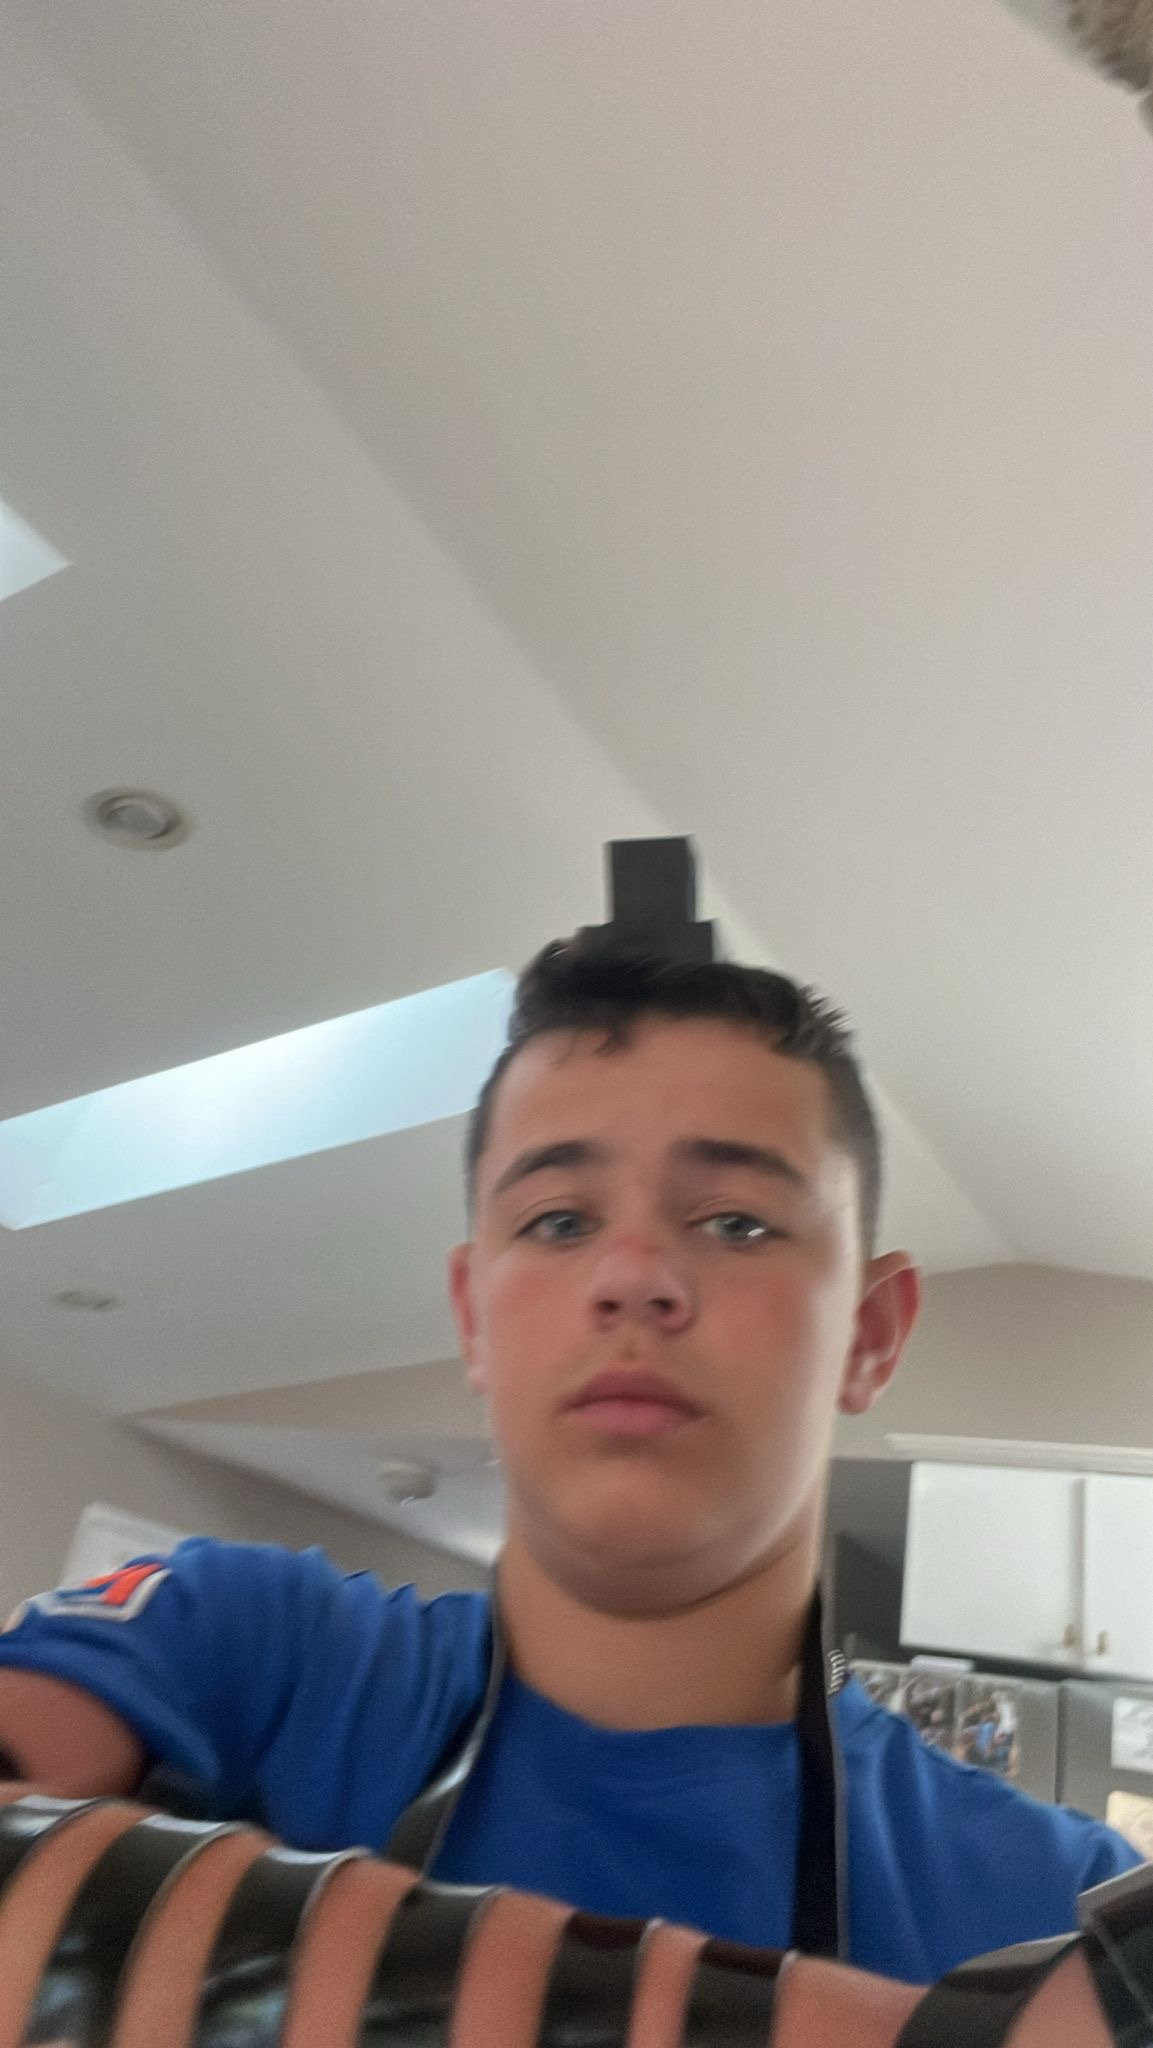tefillin: (584, 837, 727, 964)
